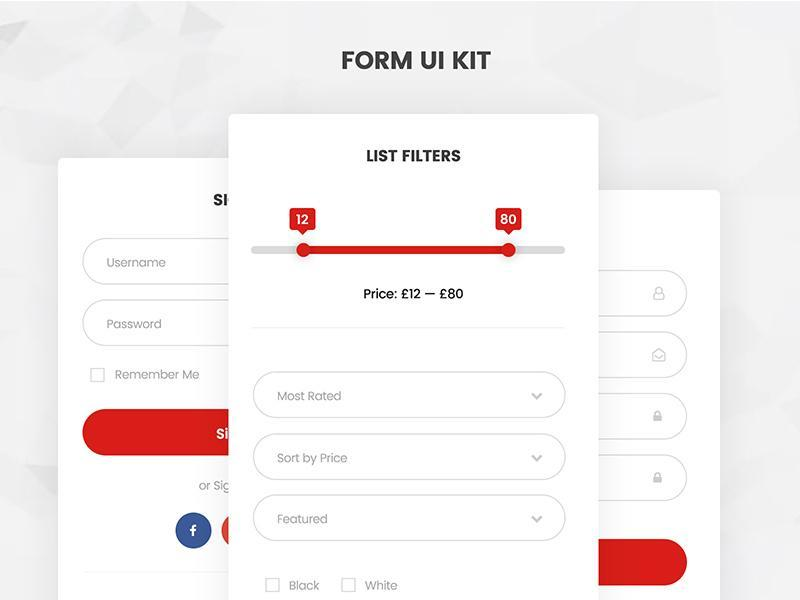checkbox: (340, 577, 360, 594), (264, 577, 282, 594)
dropdown: (253, 493, 567, 544), (251, 434, 567, 484), (251, 372, 566, 419)
label: (337, 42, 495, 76), (367, 283, 469, 305), (363, 147, 467, 164), (287, 579, 322, 594), (368, 581, 399, 591)
slider: (244, 239, 571, 262)
